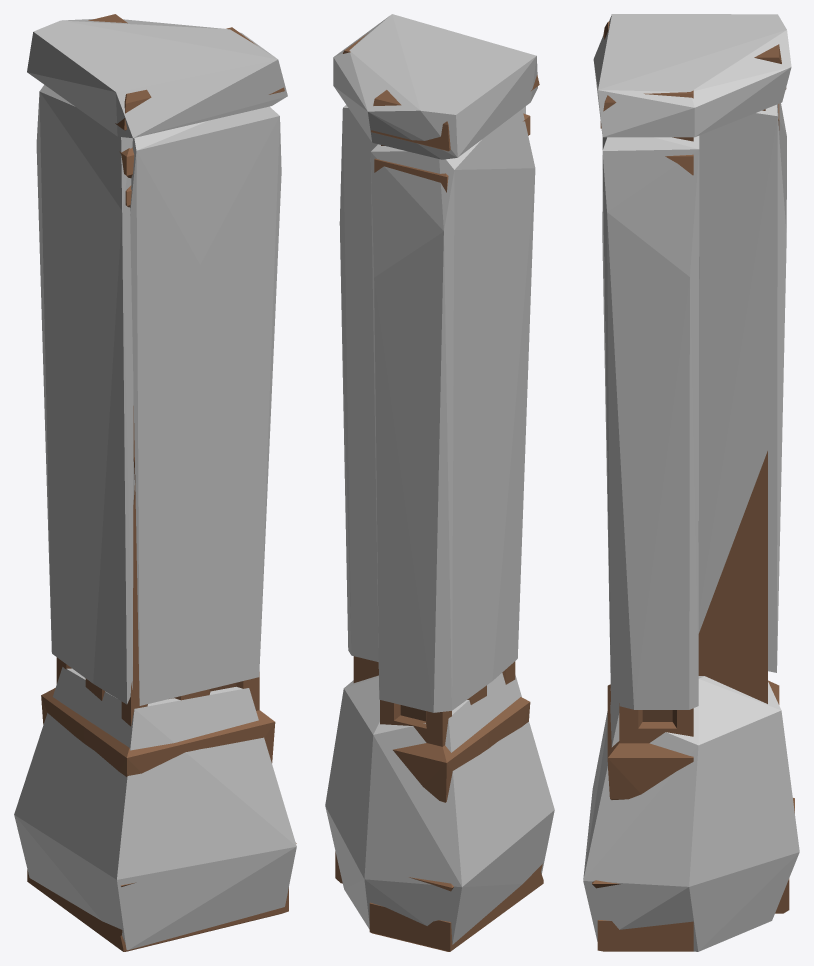
File: SM_Bld_Pillar_02_Corner.fbx
3 renders of one model, left to right at view 1: azimuth 30°, elevation 25°; view 2: azimuth 150°, elevation 25°; view 3: azimuth 270°, elevation 25°, orthographic. The views are drawn at different scales.
Parts seen in each view (by area): view 1: SM_Bld_Pillar_02_Corner_ConvexHulls, SM_Bld_Pillar_02_Corner; view 2: SM_Bld_Pillar_02_Corner_ConvexHulls, SM_Bld_Pillar_02_Corner; view 3: SM_Bld_Pillar_02_Corner_ConvexHulls, SM_Bld_Pillar_02_Corner.
Boxes of the visible parts, bbox=[...] form: SM_Bld_Pillar_02_Corner_ConvexHulls: bbox=[14, 19, 296, 949]; SM_Bld_Pillar_02_Corner: bbox=[27, 14, 296, 951]; SM_Bld_Pillar_02_Corner_ConvexHulls: bbox=[325, 14, 554, 944]; SM_Bld_Pillar_02_Corner: bbox=[335, 33, 543, 951]; SM_Bld_Pillar_02_Corner_ConvexHulls: bbox=[583, 14, 799, 951]; SM_Bld_Pillar_02_Corner: bbox=[592, 21, 794, 951].
Size of the model in its own units: 70.35 by 68.93 by 303.
Materials: 2 (1 with a texture image).
